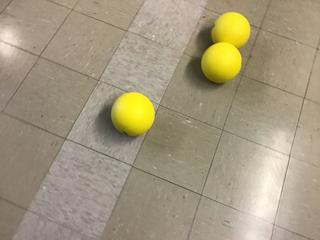power_cell: (197, 40, 245, 83), (111, 90, 155, 136), (212, 10, 251, 49)
